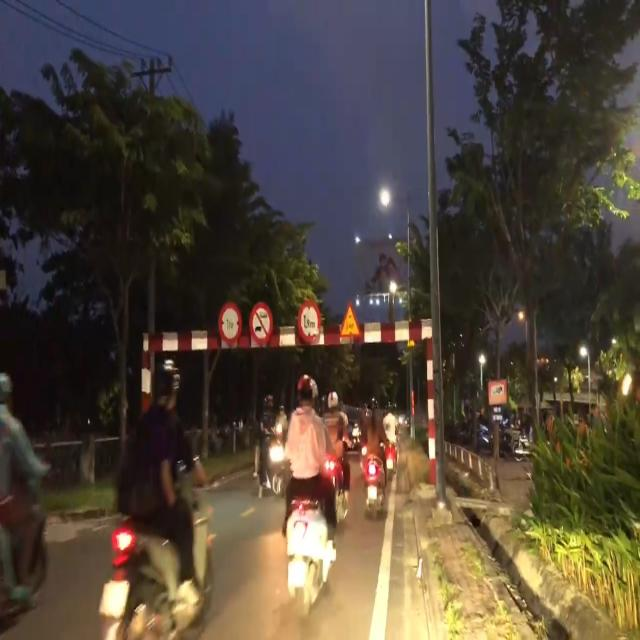Bien bao cam xe oto khach va xe oto tai: (250, 299, 274, 346)
Bien bao chieu cao tinh khong thuc te: (339, 298, 363, 342)
Bien bao han che chieu cao: (296, 296, 322, 346)
